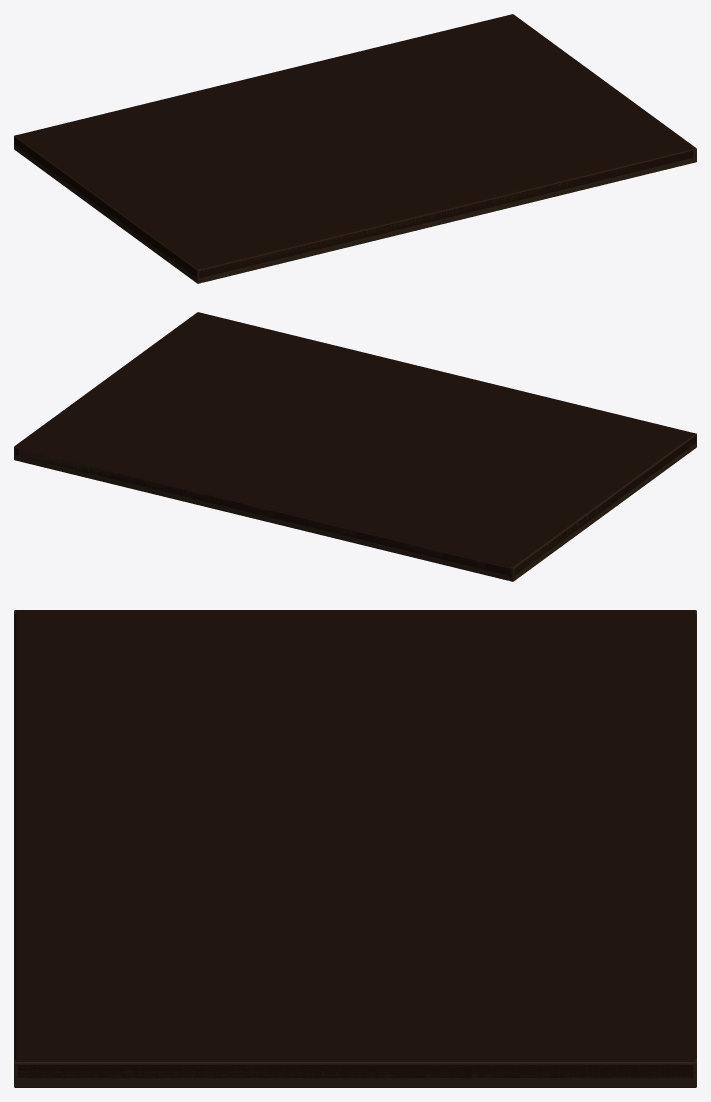
Rendered from shi-command-surface-v1-lod0.glb.
3 views of the same model, one above another, from view 1: azimuth 30°, elevation 25°; view 2: azimuth 150°, elevation 25°; view 3: azimuth 270°, elevation 25° (orthographic). The views are drawn at different scales.
Visible parts, largest first — view 1: SM_SHI_CommandSurface_LOD0_PackedEarth, SM_SHI_CommandSurface_LOD0_WoodSouth, SM_SHI_CommandSurface_LOD0_WoodWest; view 2: SM_SHI_CommandSurface_LOD0_PackedEarth, SM_SHI_CommandSurface_LOD0_WoodNorth, SM_SHI_CommandSurface_LOD0_WoodWest; view 3: SM_SHI_CommandSurface_LOD0_PackedEarth, SM_SHI_CommandSurface_LOD0_WoodEast.
Boxes of the visible parts, box(x1,y1,x2,y2) form: SM_SHI_CommandSurface_LOD0_PackedEarth: box(14, 14, 695, 278); SM_SHI_CommandSurface_LOD0_WoodSouth: box(201, 150, 692, 282); SM_SHI_CommandSurface_LOD0_WoodWest: box(14, 135, 201, 283); SM_SHI_CommandSurface_LOD0_PackedEarth: box(15, 312, 696, 576); SM_SHI_CommandSurface_LOD0_WoodNorth: box(18, 448, 509, 580); SM_SHI_CommandSurface_LOD0_WoodWest: box(509, 433, 696, 581); SM_SHI_CommandSurface_LOD0_PackedEarth: box(14, 610, 696, 1078); SM_SHI_CommandSurface_LOD0_WoodEast: box(14, 1059, 696, 1087).
Size of the model in its own units: 5.8 by 0.16 by 3.7.
